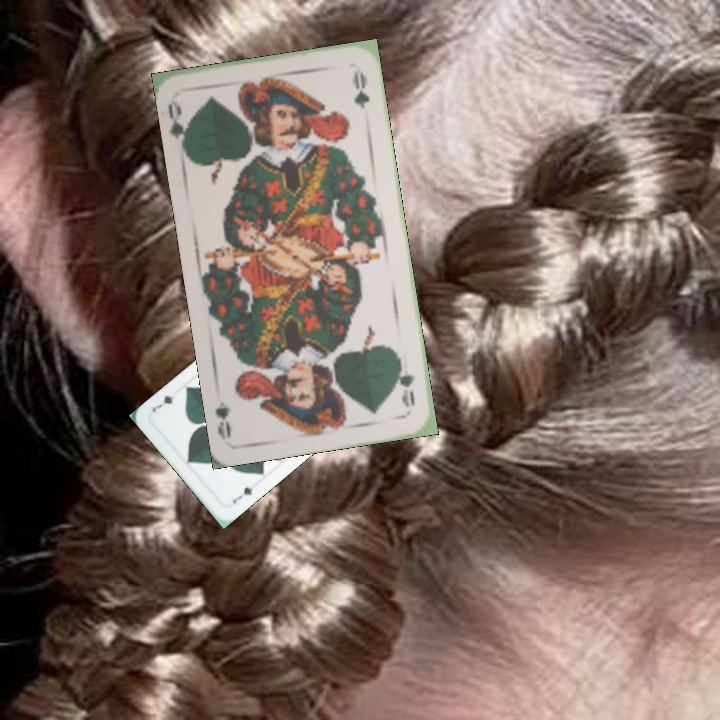G7: (228, 483, 255, 507)
GO: (164, 95, 193, 153), (394, 353, 418, 409)
